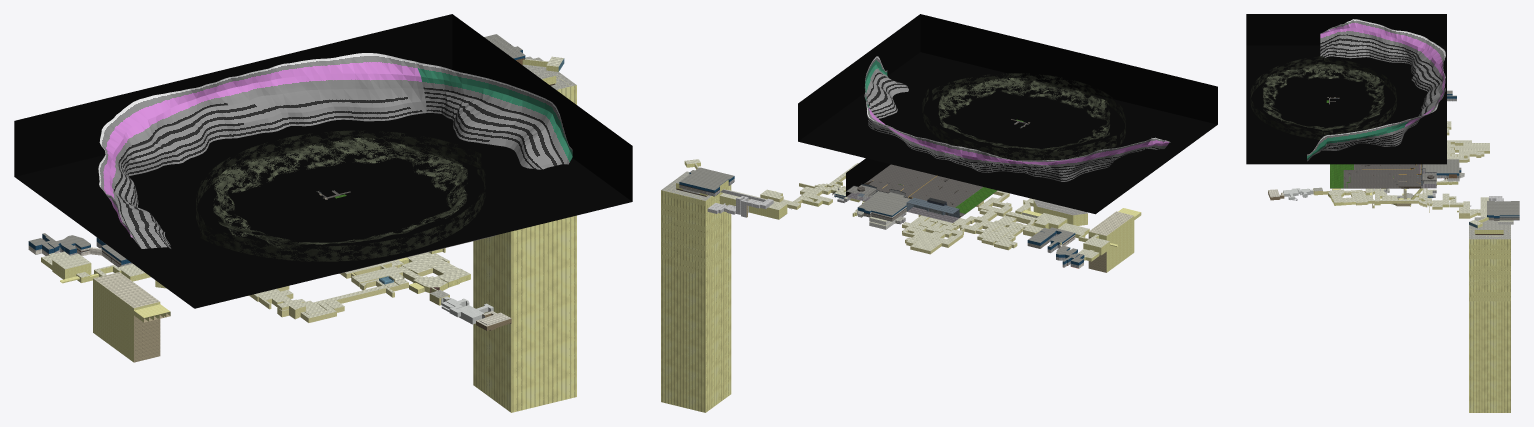
Rendered from blender_movie_map.glb.
3 renders of one model, left to right at view 1: azimuth 30°, elevation 25°; view 2: azimuth 150°, elevation 25°; view 3: azimuth 270°, elevation 25°, orthographic. The views are drawn at different scales.
Visible parts, largest first — view 1: world_geometry, gm_brmovie_complete_disp_28777, gm_brmovie_complete_disp_28776, gm_brmovie_complete_disp_28779, gm_brmovie_complete_disp_28768, gm_brmovie_complete_disp_28778, gm_brmovie_complete_disp_28780, gm_brmovie_complete_disp_28775, gm_brmovie_complete_disp_28782, gm_brmovie_complete_disp_28781, gm_brmovie_complete_disp_28841, gm_brmovie_complete_disp_28842 (+15 smaller); view 2: world_geometry, func_lod_1524948, func_lod_1525861; view 3: world_geometry, func_lod_1524948, func_lod_1525861, gm_brmovie_complete_disp_28844, gm_brmovie_complete_disp_28843, gm_brmovie_complete_disp_28845, gm_brmovie_complete_disp_28815, gm_brmovie_complete_disp_28816, gm_brmovie_complete_disp_28817, gm_brmovie_complete_disp_28846, gm_brmovie_complete_disp_28721, gm_brmovie_complete_disp_28818 (+5 smaller).
Boxes of the visible parts, bbox=[...] form: world_geometry: bbox=[14, 14, 632, 412]; gm_brmovie_complete_disp_28777: bbox=[319, 56, 370, 121]; gm_brmovie_complete_disp_28776: bbox=[340, 53, 392, 121]; gm_brmovie_complete_disp_28779: bbox=[273, 62, 321, 126]; gm_brmovie_complete_disp_28768: bbox=[463, 84, 527, 144]; gm_brmovie_complete_disp_28778: bbox=[296, 59, 342, 123]; gm_brmovie_complete_disp_28780: bbox=[251, 67, 297, 130]; gm_brmovie_complete_disp_28775: bbox=[360, 53, 409, 119]; gm_brmovie_complete_disp_28782: bbox=[210, 77, 253, 138]; gm_brmovie_complete_disp_28781: bbox=[230, 72, 276, 134]; gm_brmovie_complete_disp_28841: bbox=[129, 96, 182, 165]; gm_brmovie_complete_disp_28842: bbox=[150, 92, 198, 162]; world_geometry: bbox=[661, 14, 1217, 412]; func_lod_1524948: bbox=[661, 183, 728, 243]; func_lod_1525861: bbox=[661, 236, 727, 275]; world_geometry: bbox=[1246, 14, 1519, 412]; func_lod_1524948: bbox=[1469, 229, 1510, 275]; func_lod_1525861: bbox=[1469, 276, 1510, 301]; gm_brmovie_complete_disp_28844: bbox=[1347, 19, 1359, 58]; gm_brmovie_complete_disp_28843: bbox=[1359, 20, 1371, 57]; gm_brmovie_complete_disp_28845: bbox=[1333, 22, 1346, 57]; gm_brmovie_complete_disp_28815: bbox=[1372, 23, 1383, 60]; gm_brmovie_complete_disp_28816: bbox=[1383, 26, 1394, 62]; gm_brmovie_complete_disp_28817: bbox=[1394, 30, 1407, 63]; gm_brmovie_complete_disp_28846: bbox=[1320, 27, 1333, 57]; gm_brmovie_complete_disp_28721: bbox=[1330, 164, 1343, 188]; gm_brmovie_complete_disp_28818: bbox=[1404, 31, 1420, 65].
Size of the model in its own units: 321 by 228 by 234.
Materials: 291 (291 with a texture image).
